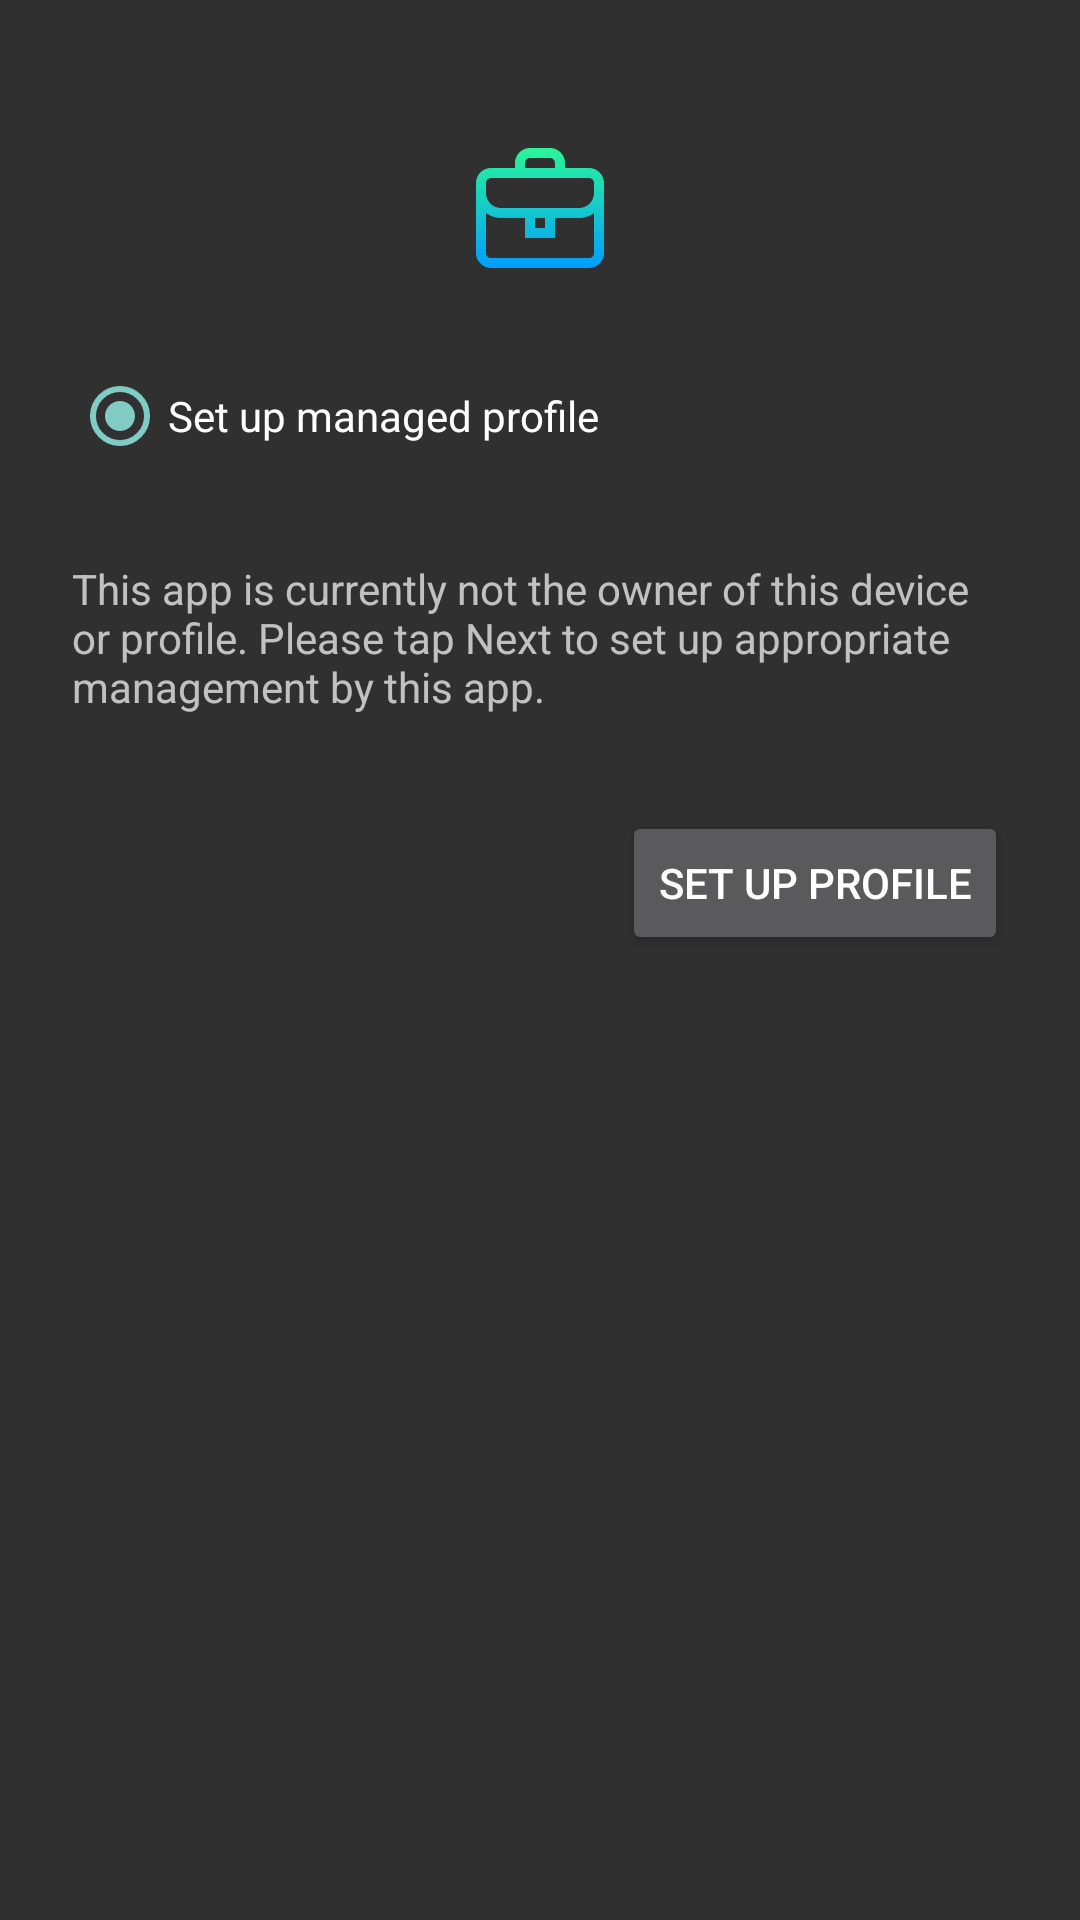

Locate icon controls on the screen. Image size 1080 × 1920, boxes as BBox(x1, y1, x2, y2).
portfolio: BBox(476, 148, 604, 268)
